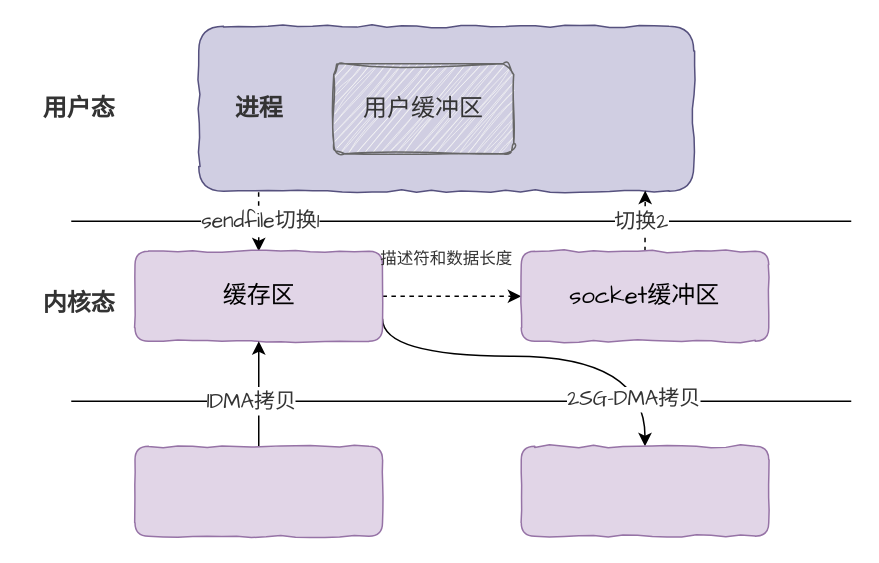
The diagram is 879 pixels wide and 563 high, and some of its shapes have lost their labels. Here are the shapes that lost their labels. From the top down, the centre of each, then its label:
At point (258, 490): "磁盘文件".
At point (644, 490): "网卡".
